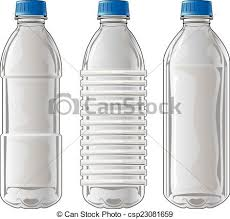available: (74, 3, 151, 219), (161, 1, 230, 211), (1, 2, 67, 214)
